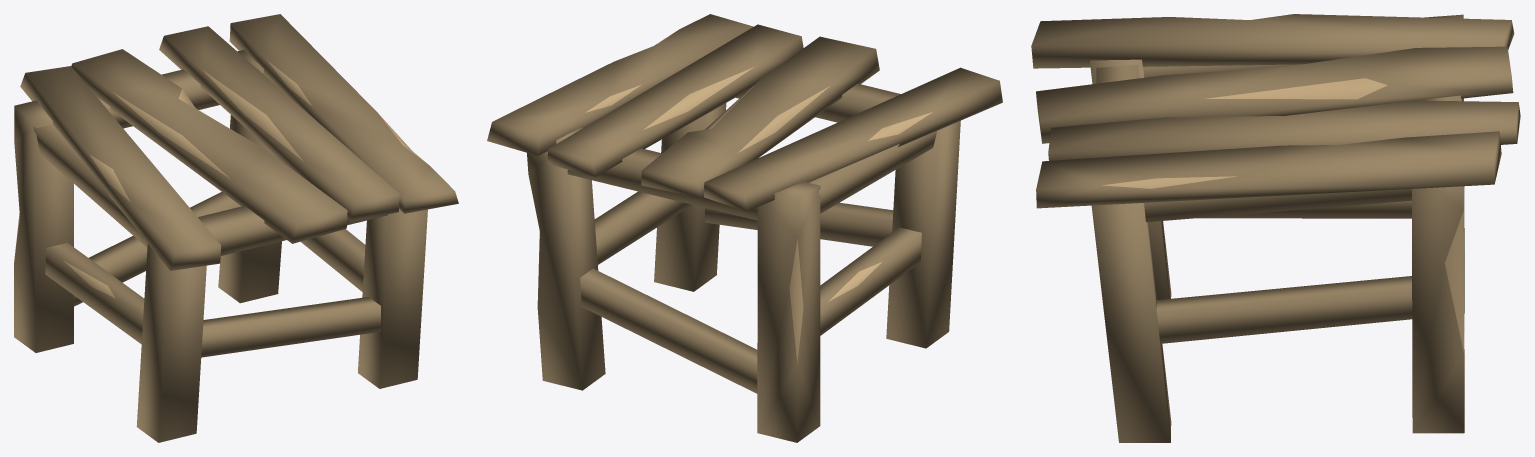
The model's file is rpgpp_av_stool_01.gltf.
3 renders of one model, left to right at view 1: azimuth 30°, elevation 25°; view 2: azimuth 150°, elevation 25°; view 3: azimuth 270°, elevation 25°, orthographic. The views are drawn at different scales.
Visible parts, largest first — view 1: rpgpp_av_stool_01; view 2: rpgpp_av_stool_01; view 3: rpgpp_av_stool_01.
Part boxes in pixels (x1,y1,x2,y2): rpgpp_av_stool_01: (14,14,458,442); rpgpp_av_stool_01: (487,14,1002,442); rpgpp_av_stool_01: (1031,14,1520,442).
Bounding box in the file's own units: 0.00517 × 0.00404 × 0.00606.
1 material, 1 textured.
